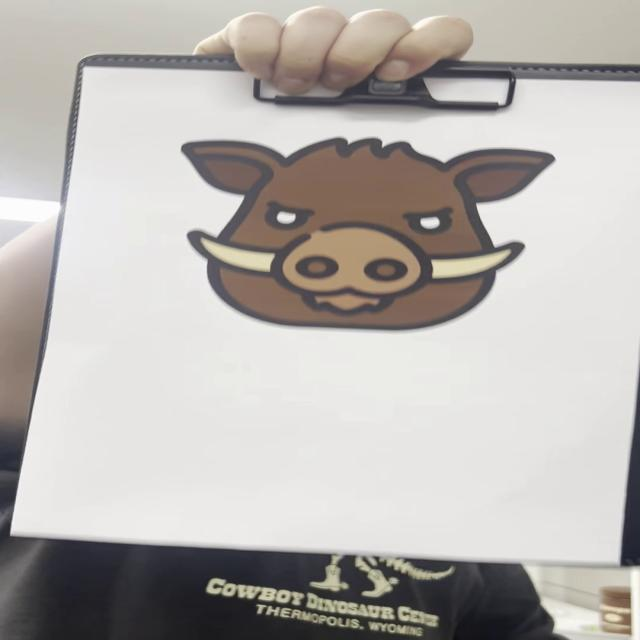animal: (179, 137, 554, 332)
